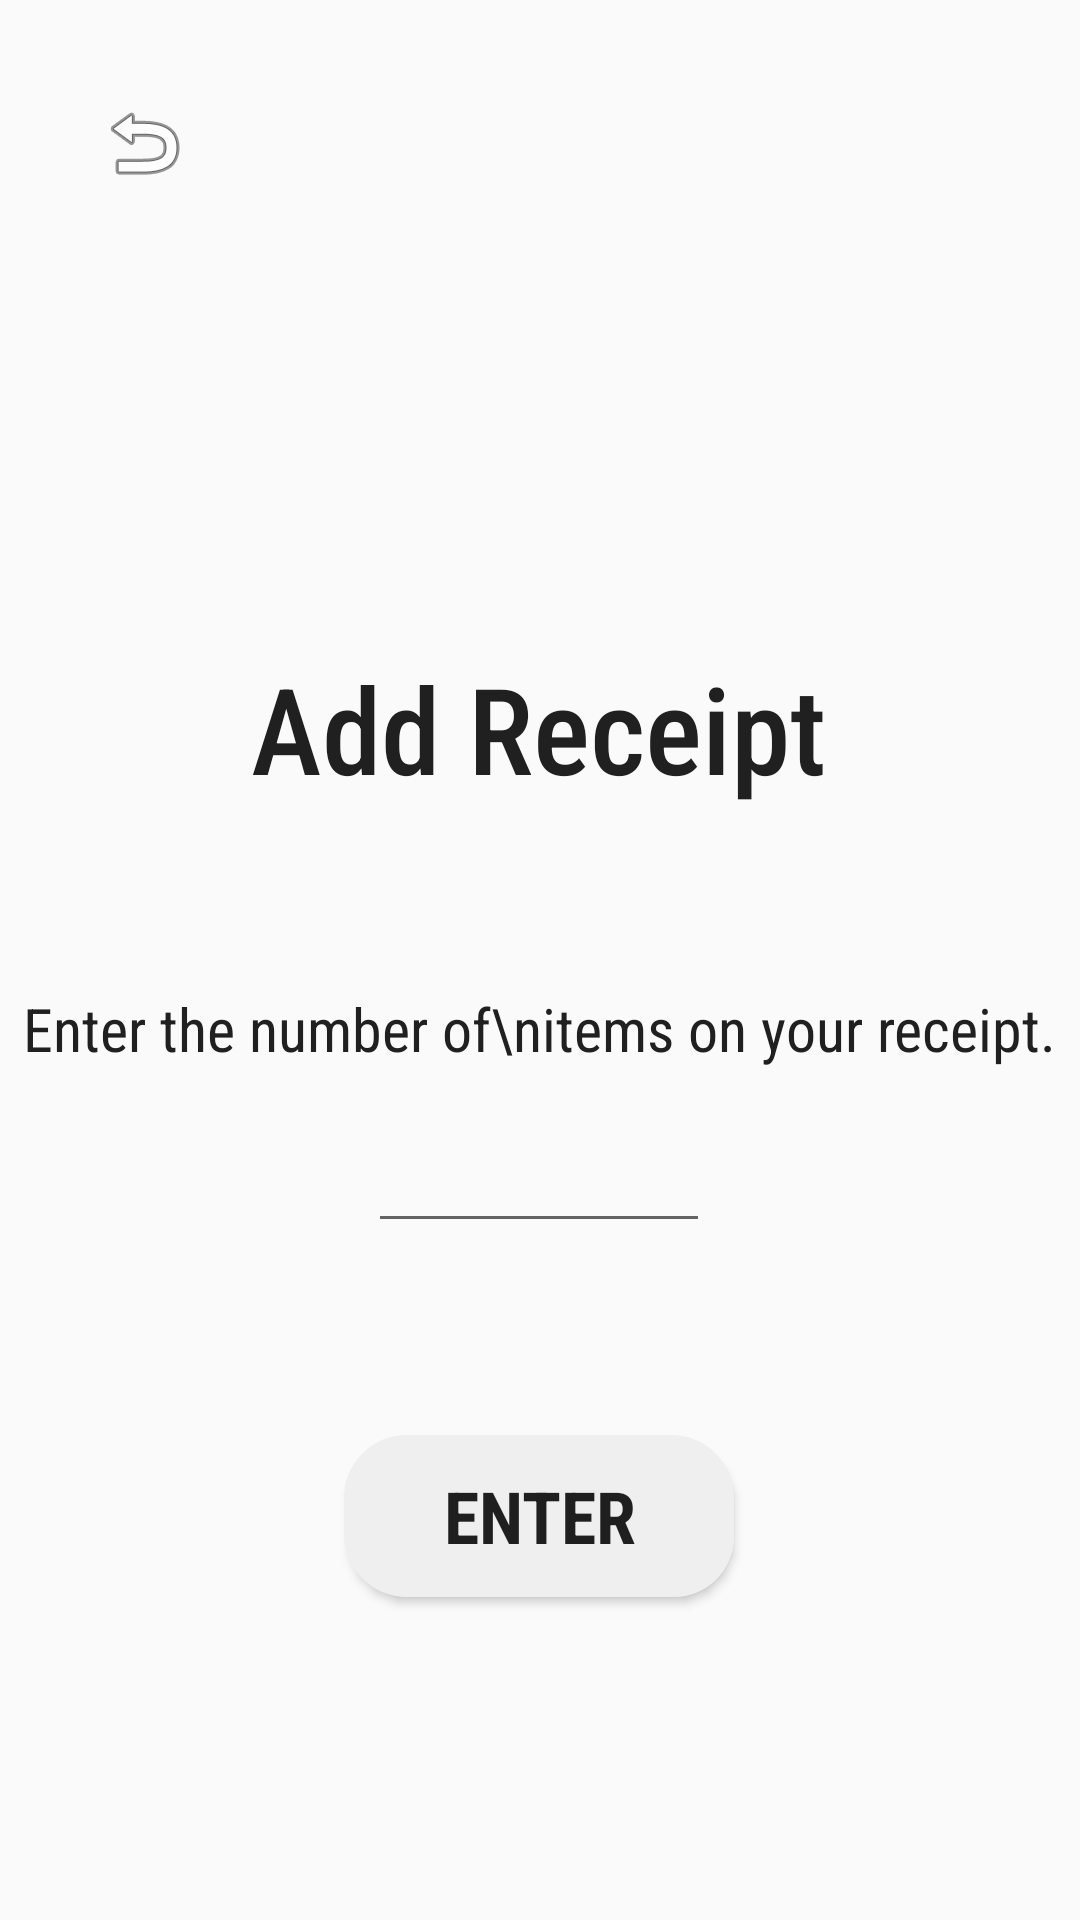

Where icons sit on this 1080x1920 app screen, as (x1, y1, x2, y2):
revert: (111, 112, 180, 175)
